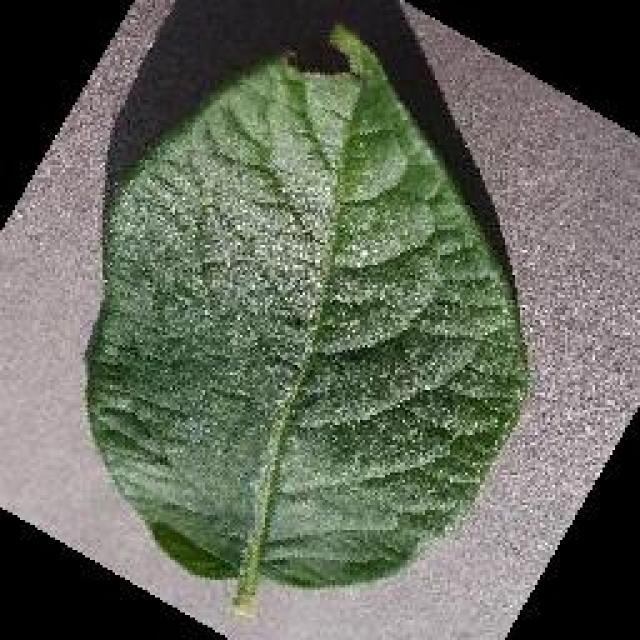Potato___healthy: (85, 19, 536, 626)
